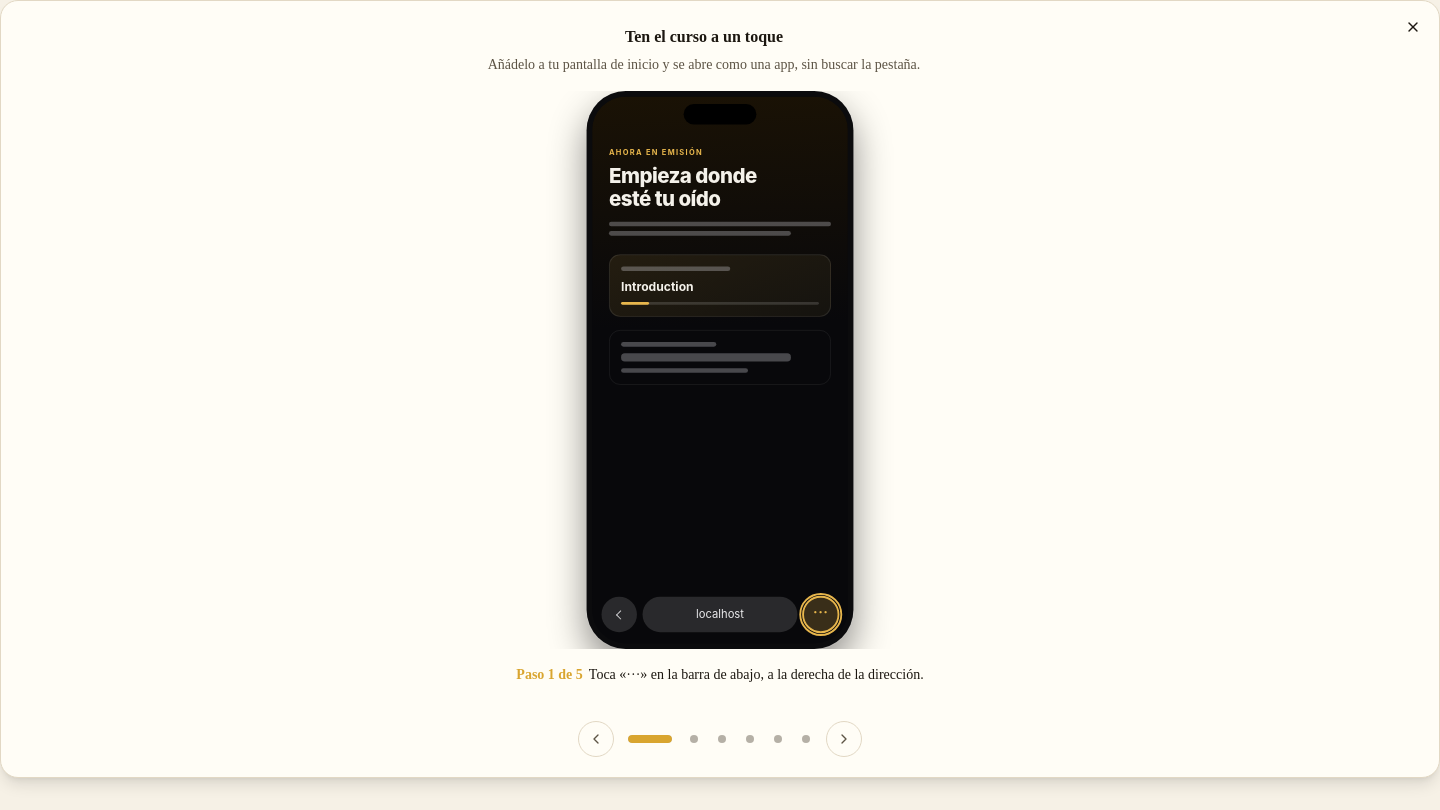
GuideAutoplay by hand › GIVEN a learner who reads faster, or slower, than the loop plays › WHEN they drag towards the left THEN the next step is shown
Press the mouse on the element "Ten el curso a un toque" at (720, 389), box [0,0,1439,778]
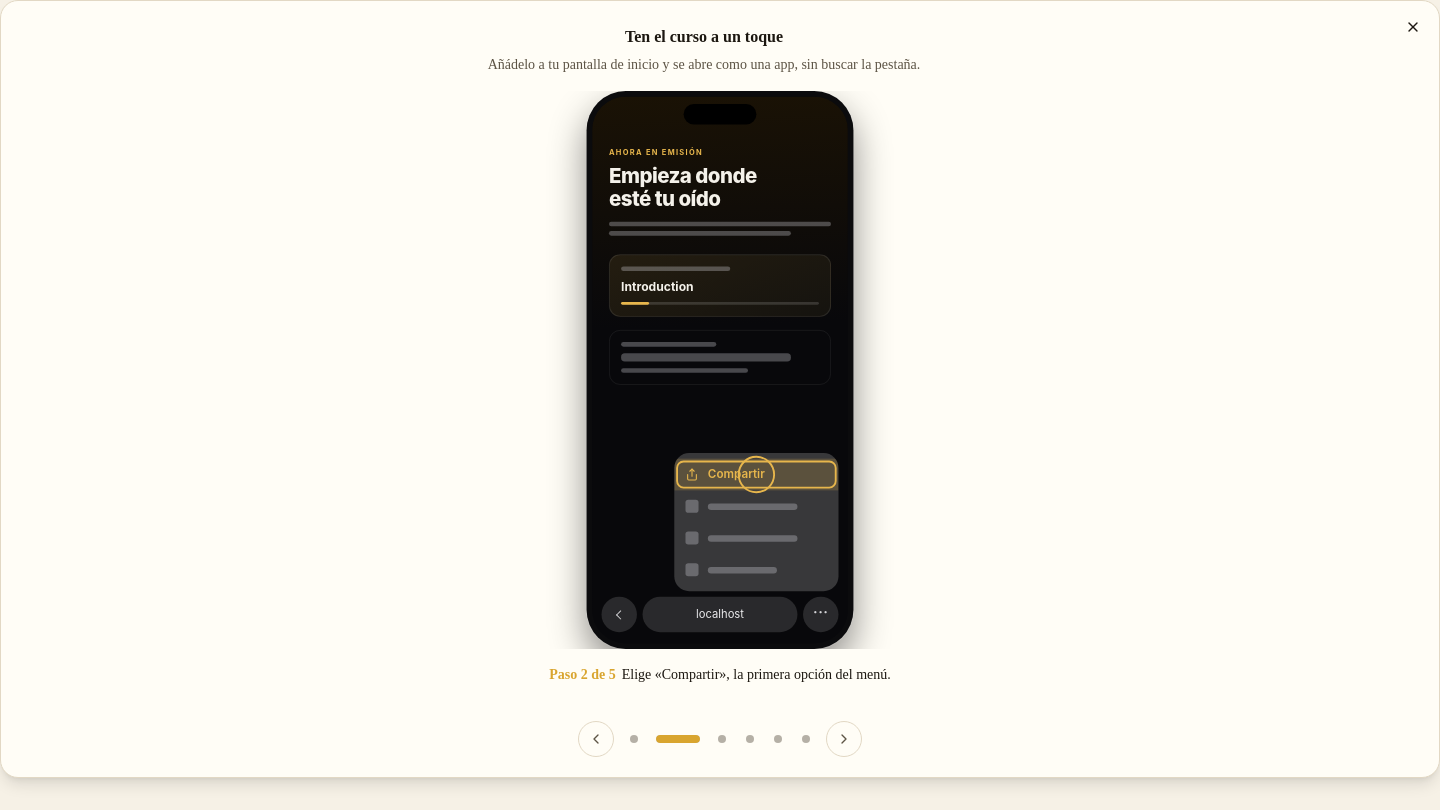
Now the text "Elige «Compartir», la primera opción del menú." is shown, box [622,667,891,682]
